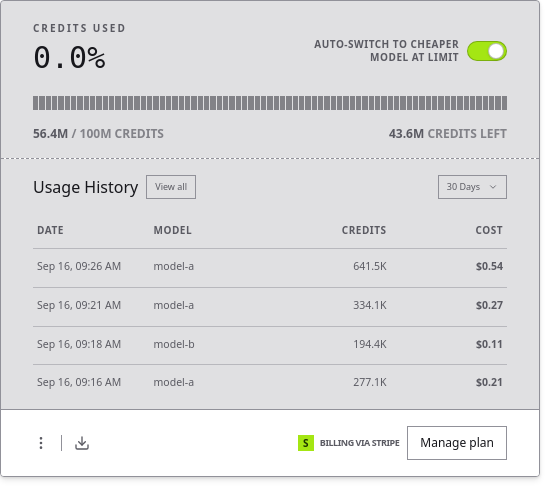
Test case: credit-usage-card › runs a usage action from the more menu
The image size is (558, 498).
Press the mouse on the button named "More actions" at (41, 443), box [33,435,49,451]
Click the button named "More actions". click: (41, 443)
box: [33,435,49,451]
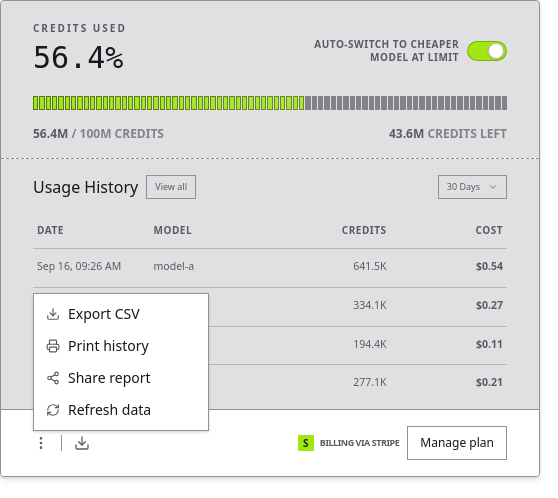
expect the menu item "Export CSV" is shown: met, box [46,304,140,323]
expect the menu item "Share report" is shown: met, box [46,368,150,387]
Click the menu item "Refresh data". click: (99, 410)
box: [46,400,151,419]
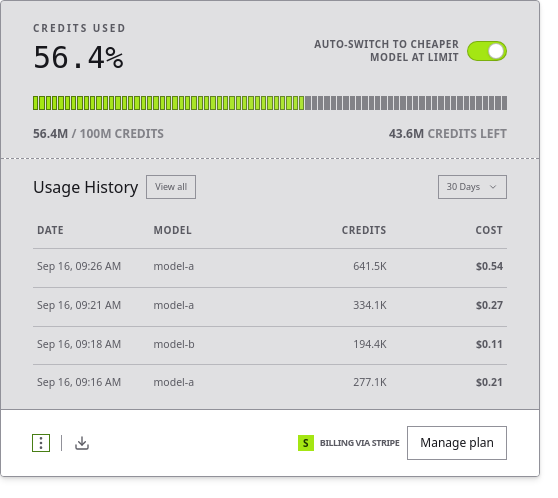
expect the menu item "Refresh data" is gone: met
